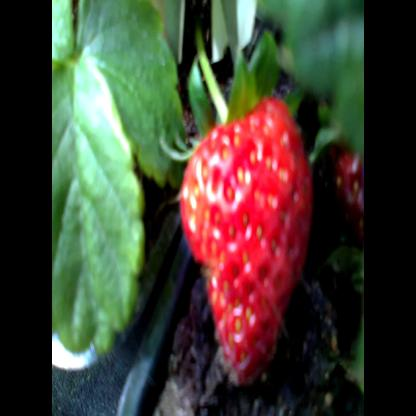ripe: (158, 107, 316, 386)
